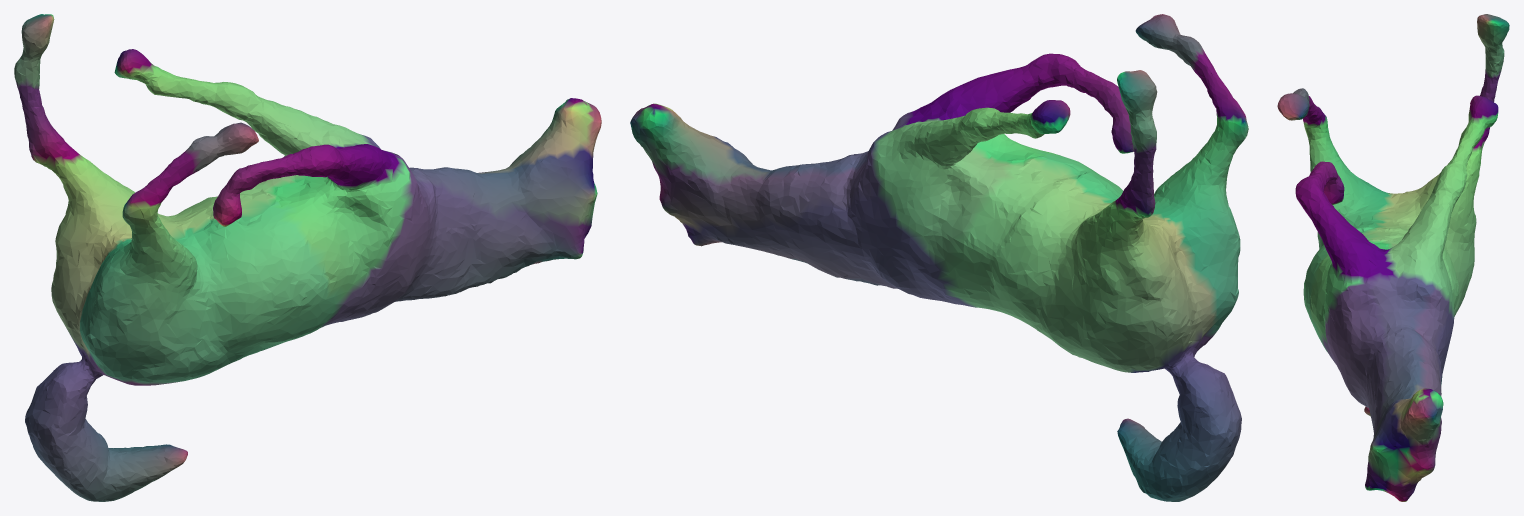
Rendered from horse-8.off.obj.
The picture shows the model from 3 angles, left to right: view 1: azimuth 30°, elevation 25°; view 2: azimuth 150°, elevation 25°; view 3: azimuth 270°, elevation 25°; orthographic projection. The views are drawn at different scales.
Bounding box in the file's own units: 1.46 × 1.09 × 0.5739.
